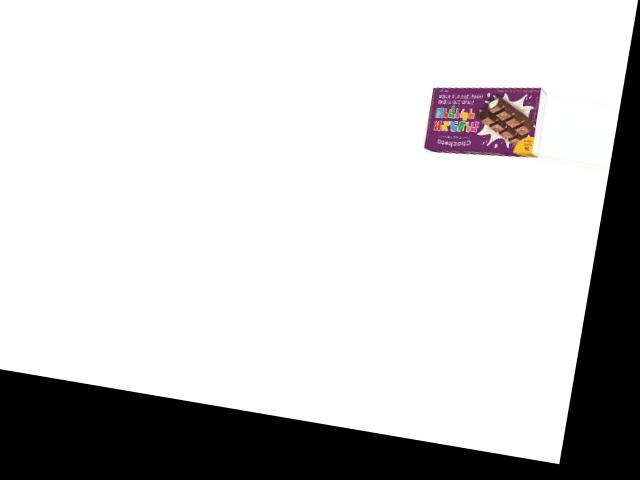chocolate: (414, 74, 550, 169)
